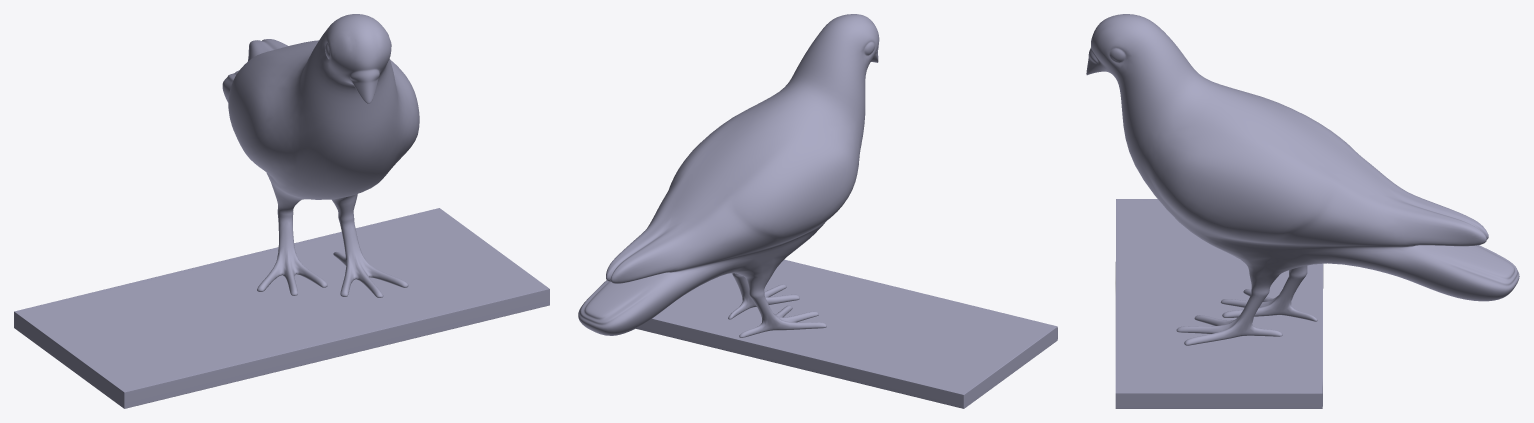
Rendered from BirdStatue.FBX.
3 views of the same model, side by side, from view 1: azimuth 30°, elevation 25°; view 2: azimuth 150°, elevation 25°; view 3: azimuth 270°, elevation 25° (orthographic). The views are drawn at different scales.
Parts seen in each view (by area): view 1: Arch34_043_obj_00; view 2: Arch34_043_obj_00; view 3: Arch34_043_obj_00.
Boxes of the visible parts, x1=… form: Arch34_043_obj_00: x1=14, y1=14, x2=549, y2=408; Arch34_043_obj_00: x1=578, y1=14, x2=1057, y2=408; Arch34_043_obj_00: x1=1086, y1=14, x2=1519, y2=408.
Bounding box in the file's own units: 32.15 × 23.65 × 30.23.
